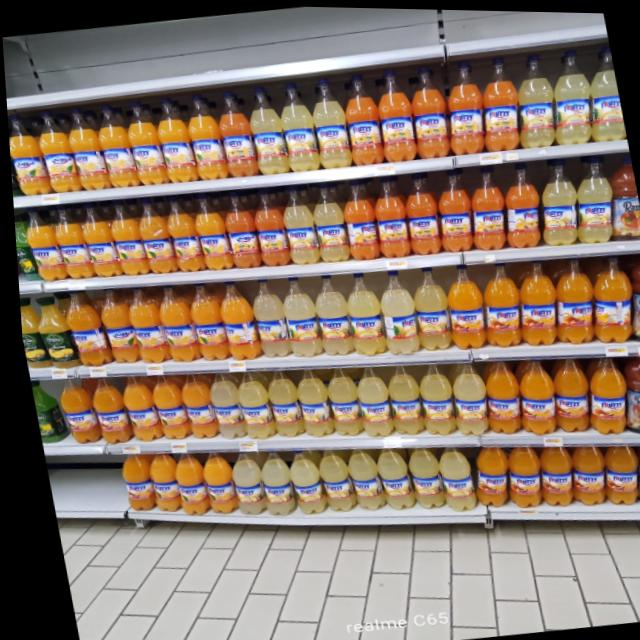ramy_plastique: (539, 44, 598, 143), (504, 49, 561, 148), (470, 52, 526, 151), (579, 250, 637, 342), (561, 151, 618, 244), (437, 56, 491, 154), (527, 154, 583, 246), (400, 60, 452, 158), (335, 69, 387, 166), (541, 252, 597, 341), (575, 42, 625, 140), (303, 74, 354, 169), (507, 255, 561, 344), (470, 255, 522, 345), (493, 158, 545, 248), (437, 257, 488, 348), (371, 64, 418, 162), (458, 161, 509, 251), (210, 86, 260, 177), (240, 83, 290, 174), (272, 78, 321, 170), (147, 93, 196, 184), (576, 350, 629, 434), (426, 164, 476, 253), (369, 266, 420, 353), (179, 90, 227, 180), (59, 104, 108, 192), (30, 107, 79, 195), (117, 97, 165, 186), (336, 269, 385, 356), (402, 263, 451, 350), (364, 170, 412, 258), (90, 102, 137, 190), (334, 175, 382, 260), (595, 152, 640, 242), (394, 168, 440, 255), (541, 352, 591, 432), (305, 272, 352, 355), (179, 279, 227, 360), (210, 278, 258, 359), (507, 354, 556, 433), (273, 276, 320, 358), (55, 288, 105, 365), (6, 111, 50, 198), (303, 179, 349, 262), (149, 281, 196, 362), (273, 183, 320, 264), (242, 276, 288, 358), (72, 199, 119, 279), (472, 354, 519, 434), (46, 201, 92, 281), (158, 192, 204, 272), (119, 283, 165, 363), (26, 294, 75, 369), (407, 357, 454, 435), (215, 188, 260, 269), (102, 197, 148, 276), (440, 356, 486, 435), (90, 285, 136, 363), (378, 360, 424, 438), (185, 190, 229, 271), (130, 195, 174, 275), (246, 186, 290, 266), (80, 372, 127, 446), (17, 205, 62, 282), (346, 360, 391, 437), (48, 372, 95, 445), (590, 437, 639, 505), (226, 366, 271, 440), (317, 362, 361, 437), (257, 366, 301, 439), (287, 364, 331, 437), (558, 437, 605, 505), (112, 372, 157, 443), (527, 438, 573, 507), (495, 439, 541, 507), (143, 369, 186, 441), (366, 441, 410, 511), (200, 367, 242, 440), (308, 444, 352, 513), (428, 441, 471, 511), (249, 446, 292, 516), (278, 444, 321, 514), (463, 440, 507, 508), (398, 441, 441, 510), (337, 443, 380, 512), (220, 446, 262, 516), (171, 369, 213, 438), (191, 447, 233, 515), (111, 449, 155, 513), (165, 450, 204, 518), (139, 449, 179, 513), (613, 247, 640, 337), (616, 351, 640, 436), (621, 436, 640, 505)
